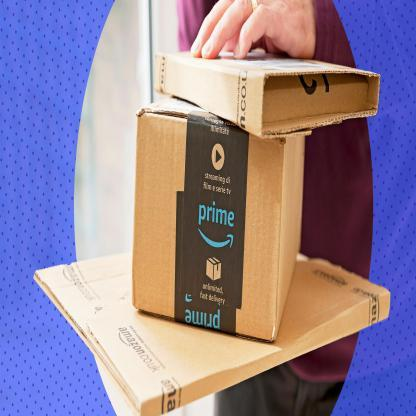package: (132, 102, 310, 344), (154, 48, 381, 141)
